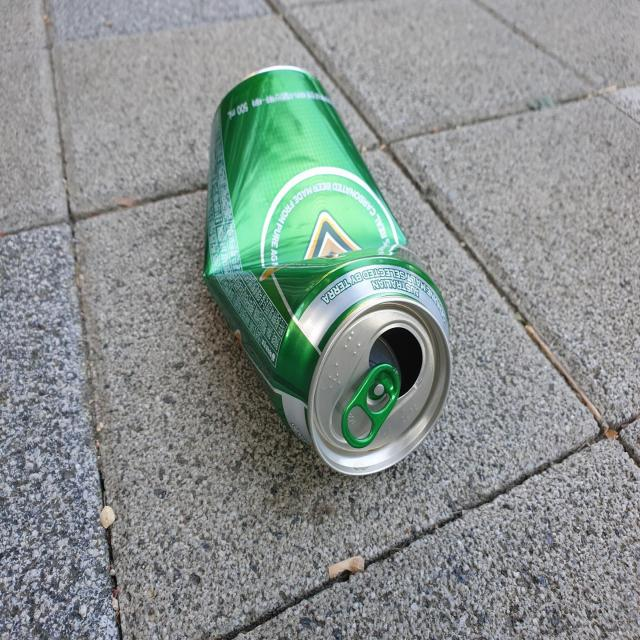can: (204, 65, 452, 475)
